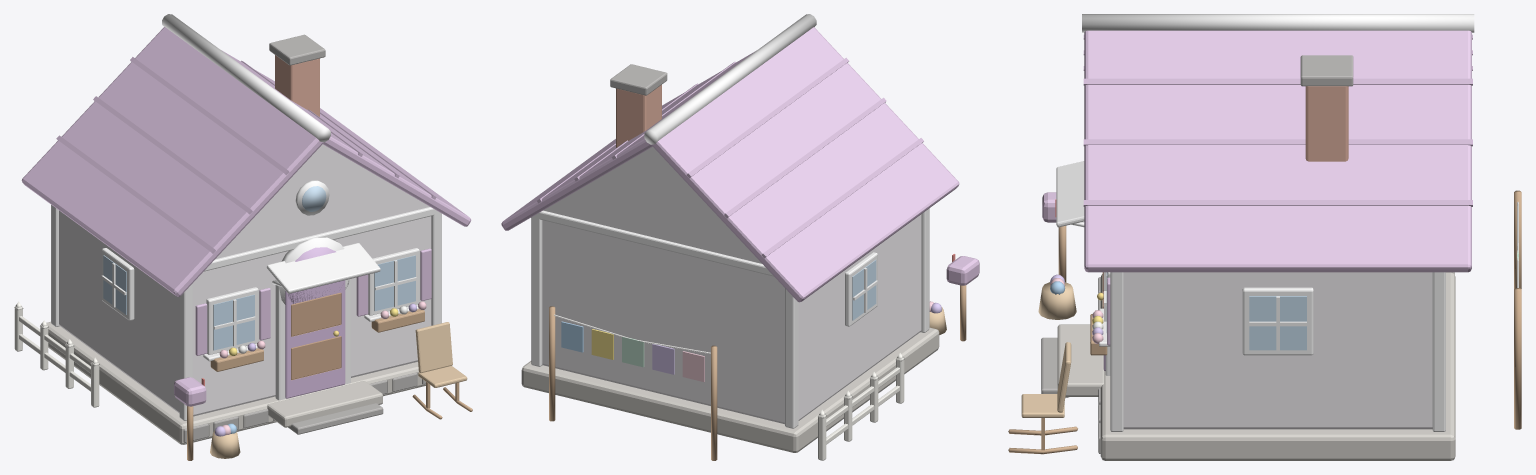
File: casa_celeste.glb
3 views of the same model, side by side, from view 1: azimuth 30°, elevation 25°; view 2: azimuth 150°, elevation 25°; view 3: azimuth 270°, elevation 25° (orthographic). The views are drawn at different scales.
Parts seen in each view (by area): view 1: casa_celeste; view 2: casa_celeste; view 3: casa_celeste.
Part boxes in pixels (left/top/right/bottom): casa_celeste: left=14, top=14, right=472, bottom=460; casa_celeste: left=501, top=14, right=979, bottom=460; casa_celeste: left=1008, top=14, right=1521, bottom=460.
Size of the model in its own units: 4.69 by 4.22 by 5.35.
